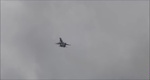maybay_muctieu: (56, 35, 71, 51)
